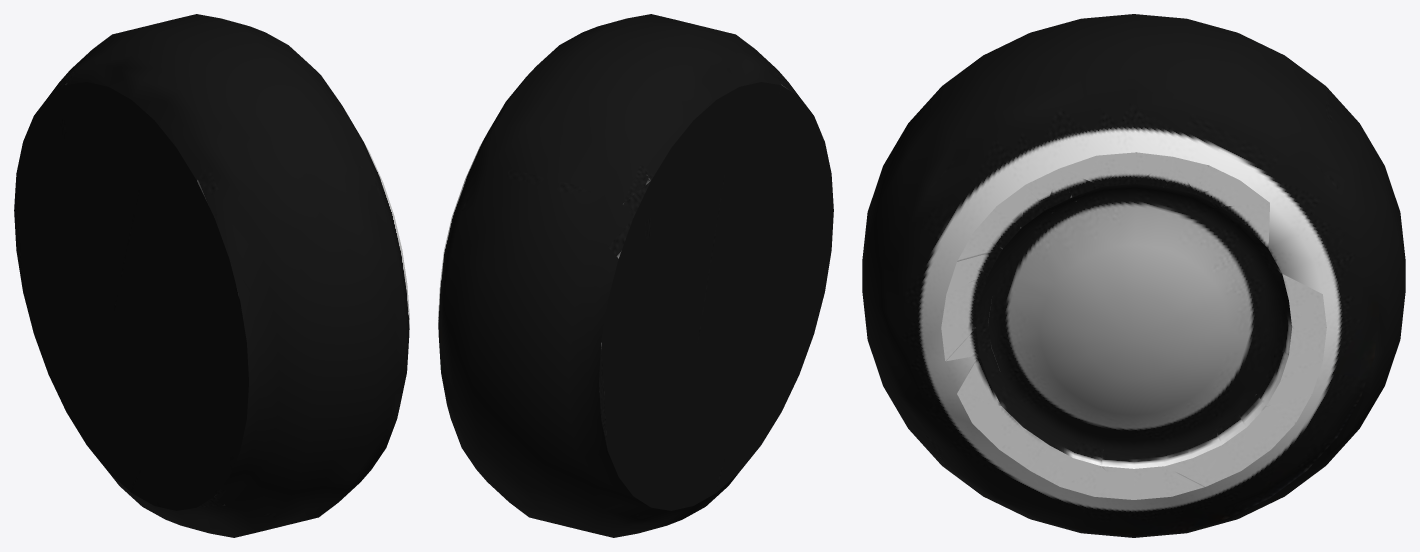
The model's file is classicbugwheelLeft.glb.
3 views of the same model, side by side, from view 1: azimuth 30°, elevation 25°; view 2: azimuth 150°, elevation 25°; view 3: azimuth 270°, elevation 25° (orthographic). The views are drawn at different scales.
Visible parts, largest first — view 1: Plane_001_Plane_002.001; view 2: Plane_001_Plane_002.001; view 3: Plane_001_Plane_002.001.
Part boxes in pixels (x1,y1,x2,y2): Plane_001_Plane_002.001: (14,14,409,537); Plane_001_Plane_002.001: (438,14,833,537); Plane_001_Plane_002.001: (862,14,1405,537).
Bounding box in the file's own units: 0.1996 × 0.427 × 0.427.
1 material, 1 textured.
